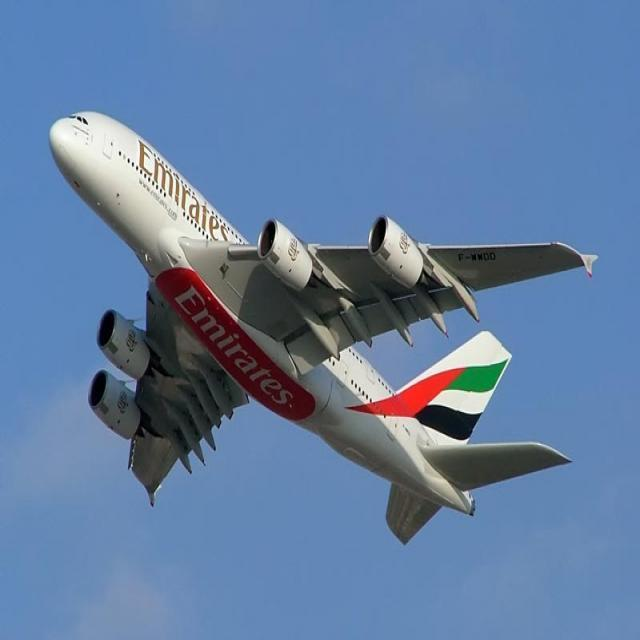Emirates: (174, 282, 292, 406), (138, 137, 228, 244)
